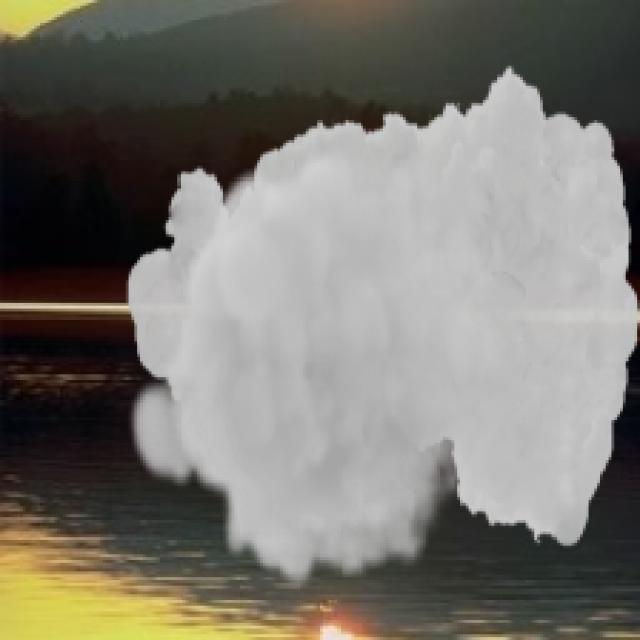smoke: (126, 63, 637, 591)
